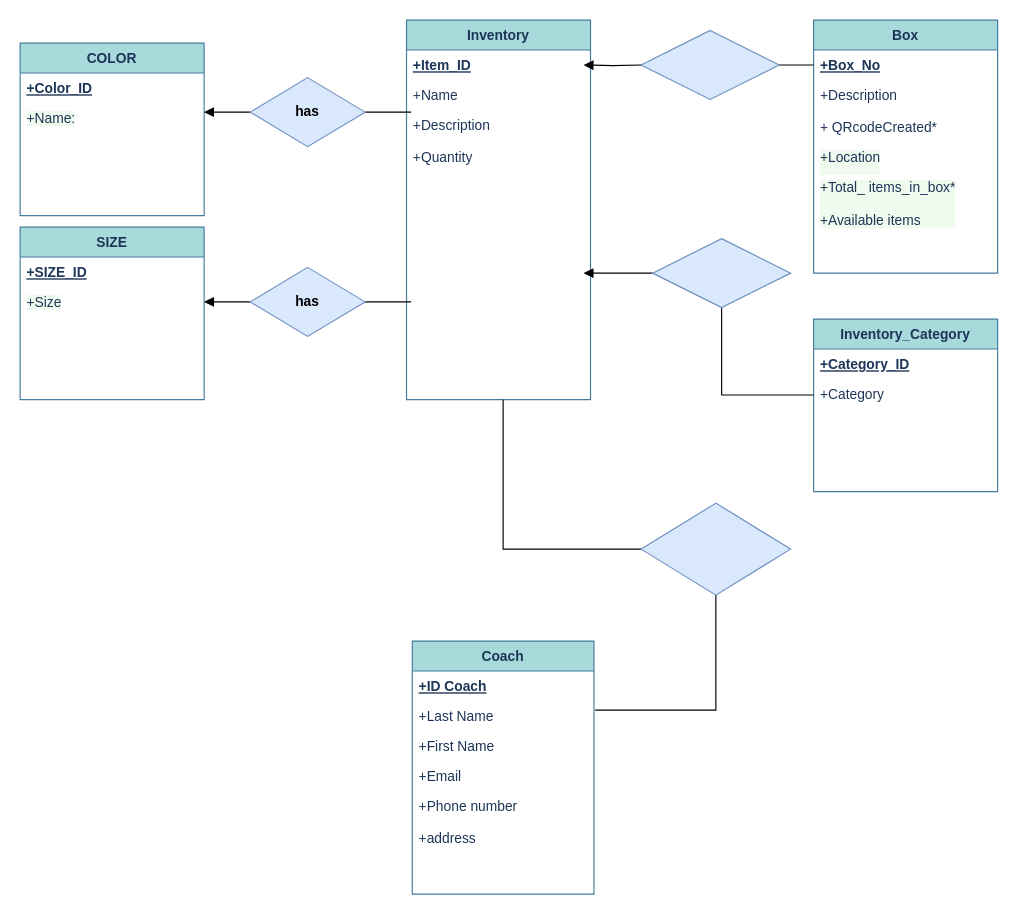
Some shapes in this 1018 by 914 pixel diagram are drawn without their labels. Each missing label, with the centre of its shape:
"select by" belongs at pixel 721 272.
"Store in" belongs at pixel 709 64.
"tracks(ed)" belongs at pixel 715 548.
